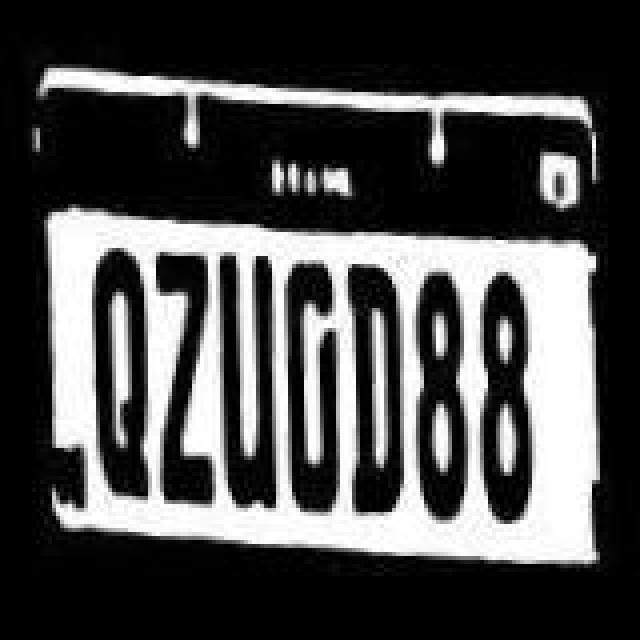8: (402, 258, 466, 534), (470, 262, 534, 526)
D: (276, 246, 344, 522), (340, 254, 408, 518)
Q: (78, 230, 150, 506)
U: (210, 240, 282, 516)
Z: (150, 246, 214, 514)
